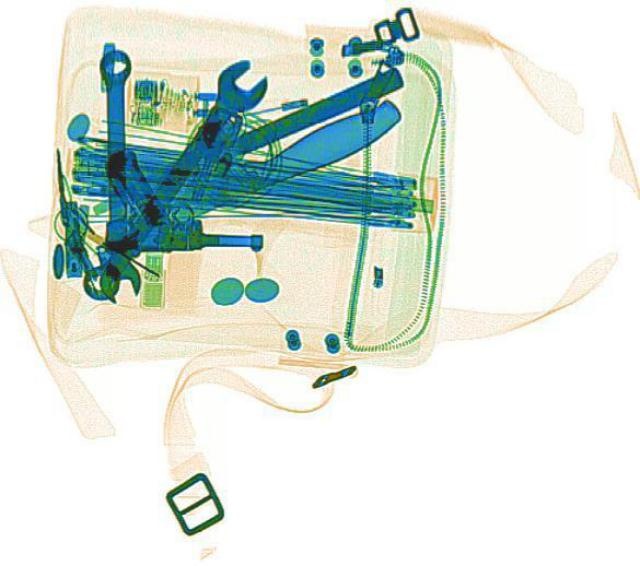Gun: (101, 148, 262, 253)
Knife: (86, 65, 407, 218), (130, 92, 410, 241)
Wrench: (65, 51, 277, 303), (92, 47, 140, 300)
